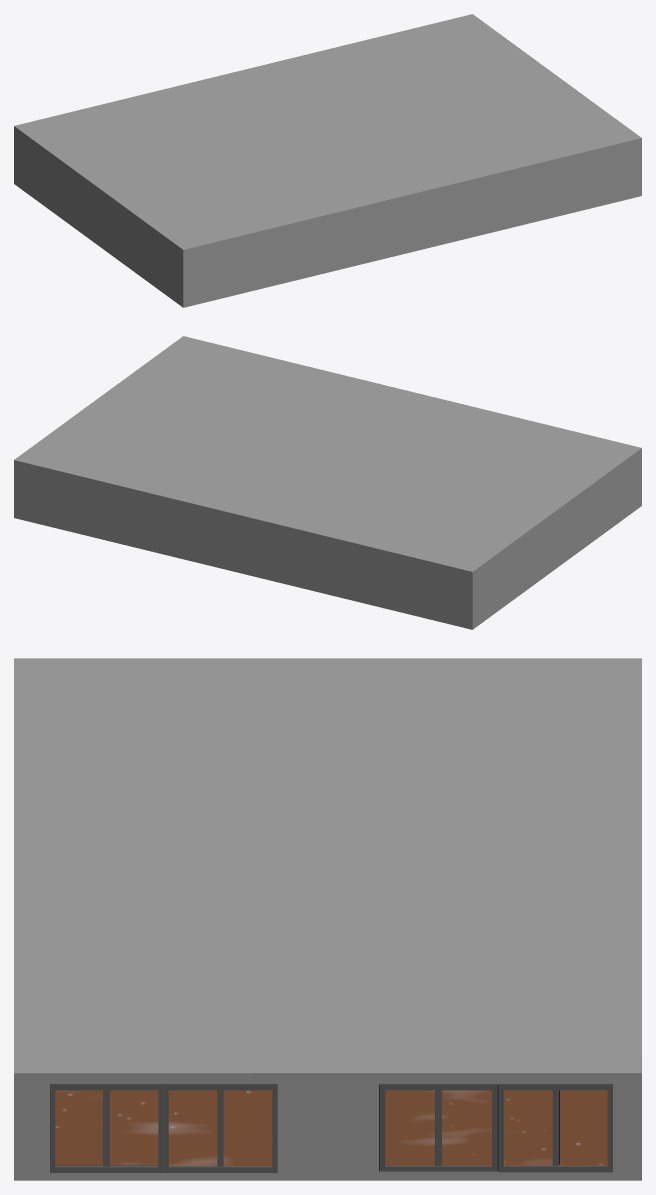
Rendered from office evening6.fbx.
3 renders of one model, top to bottom at view 1: azimuth 30°, elevation 25°; view 2: azimuth 150°, elevation 25°; view 3: azimuth 270°, elevation 25°, orthographic. The views are drawn at different scales.
Visible parts, largest first — view 1: yuka; view 2: yuka; view 3: yuka.
Boxes of the visible parts, <box> form: yuka: <box>14,14,641,307</box>; yuka: <box>14,336,641,629</box>; yuka: <box>14,658,641,1180</box>.
Size of the model in its own units: 2458 by 296 by 1570.
